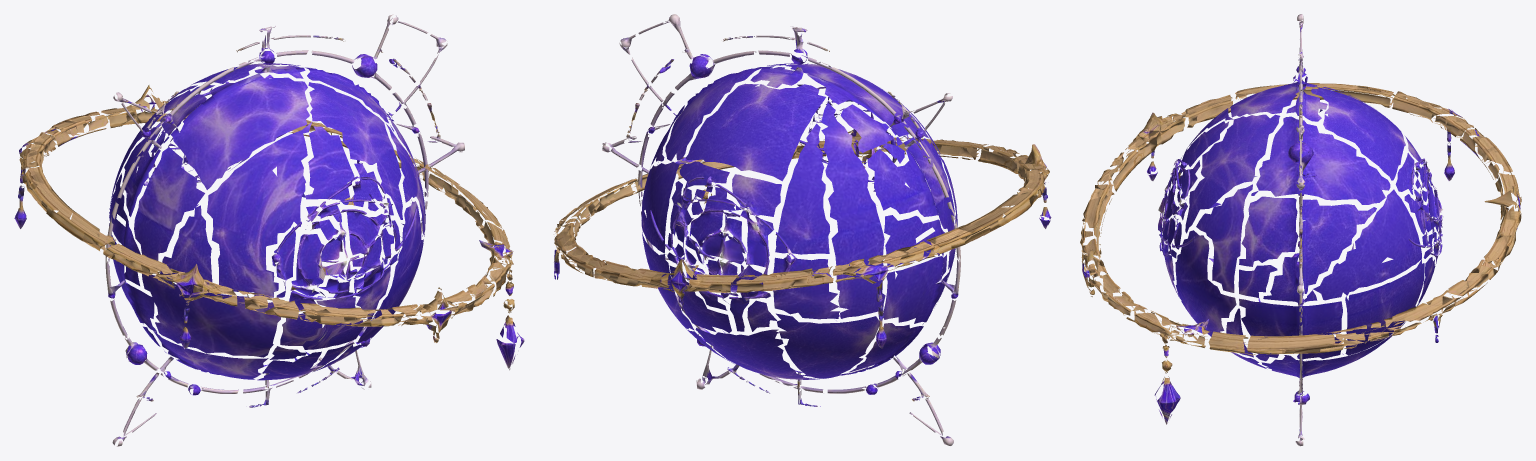
Rendered from ma_vuong_orb_mobile.glb.
3 views of the same model, side by side, from view 1: azimuth 30°, elevation 25°; view 2: azimuth 150°, elevation 25°; view 3: azimuth 270°, elevation 25° (orthographic). The views are drawn at different scales.
Parts seen in each view (by area): view 1: tripo_node_f0329230-2219-4257-9c0c-735ea3e1003b; view 2: tripo_node_f0329230-2219-4257-9c0c-735ea3e1003b; view 3: tripo_node_f0329230-2219-4257-9c0c-735ea3e1003b.
Boxes of the visible parts, x1=… form: tripo_node_f0329230-2219-4257-9c0c-735ea3e1003b: x1=14, y1=14, x2=524, y2=446; tripo_node_f0329230-2219-4257-9c0c-735ea3e1003b: x1=554, y1=14, x2=1051, y2=445; tripo_node_f0329230-2219-4257-9c0c-735ea3e1003b: x1=1080, y1=14, x2=1521, y2=446.
Bounding box in the file's own units: 0.9796 × 0.8479 × 0.9751.
1 material, 1 textured.
